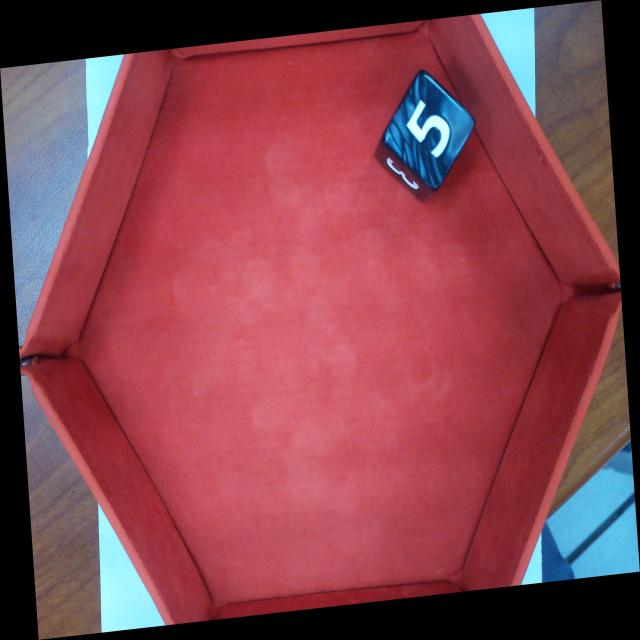dice: (381, 68, 479, 197)
